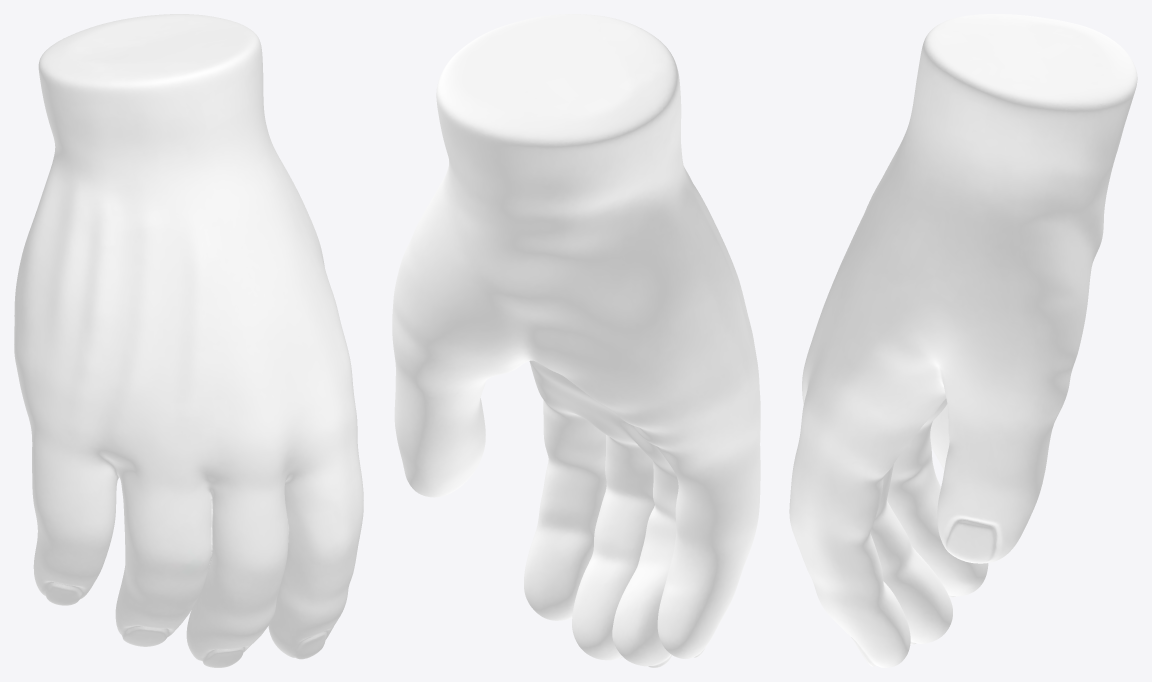
The model's file is mano_izquierda.glb.
The picture shows the model from 3 angles, left to right: view 1: azimuth 30°, elevation 25°; view 2: azimuth 150°, elevation 25°; view 3: azimuth 270°, elevation 25°; orthographic projection. The views are drawn at different scales.
Visible parts, largest first — view 1: mesh_node; view 2: mesh_node; view 3: mesh_node.
Boxes of the visible parts, box(x1,y1,x2,y2) form: mesh_node: box(14, 14, 363, 667); mesh_node: box(392, 14, 760, 667); mesh_node: box(789, 14, 1137, 667).
Bounding box in the file's own units: 0.1029 × 0.1899 × 0.1006.
Materials: 1 (1 with a texture image).
